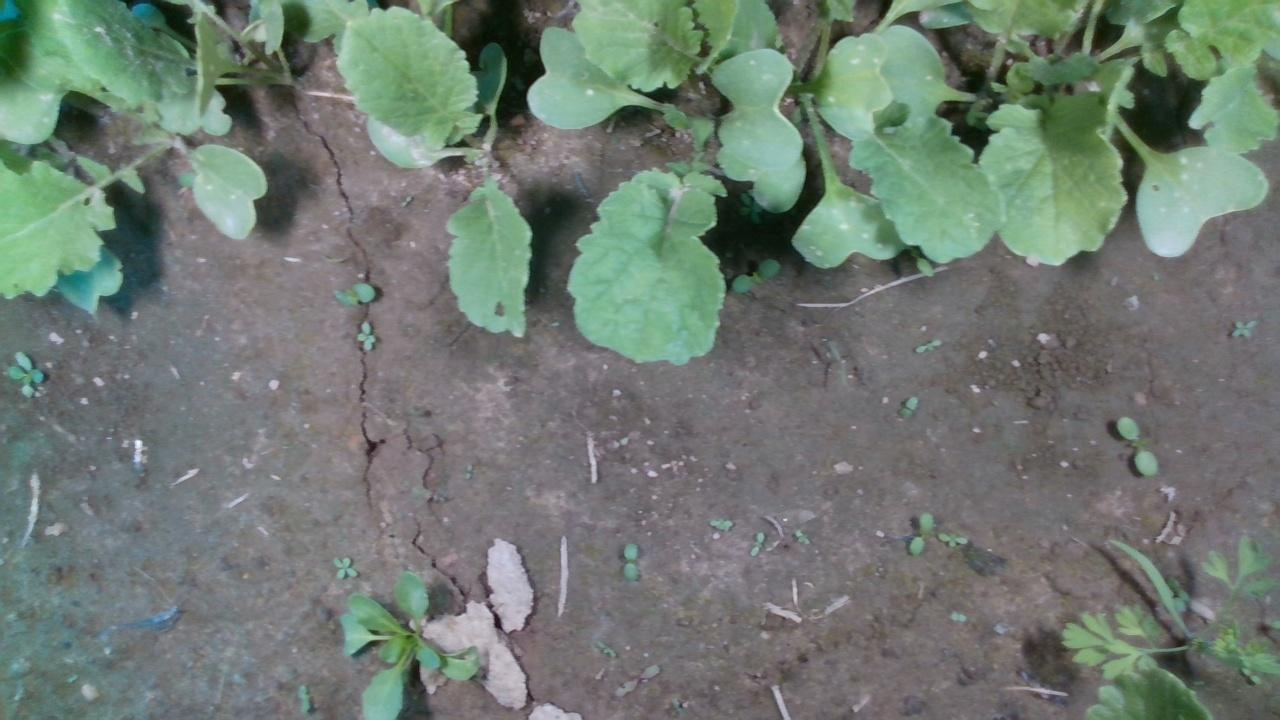weed: (1113, 414, 1158, 476), (729, 255, 781, 293), (4, 350, 43, 398), (325, 279, 379, 307), (907, 511, 934, 555), (619, 542, 641, 580), (354, 319, 379, 350), (329, 554, 358, 580), (1227, 317, 1258, 338), (898, 394, 919, 421), (911, 337, 942, 355), (938, 531, 967, 548), (749, 530, 763, 557)
